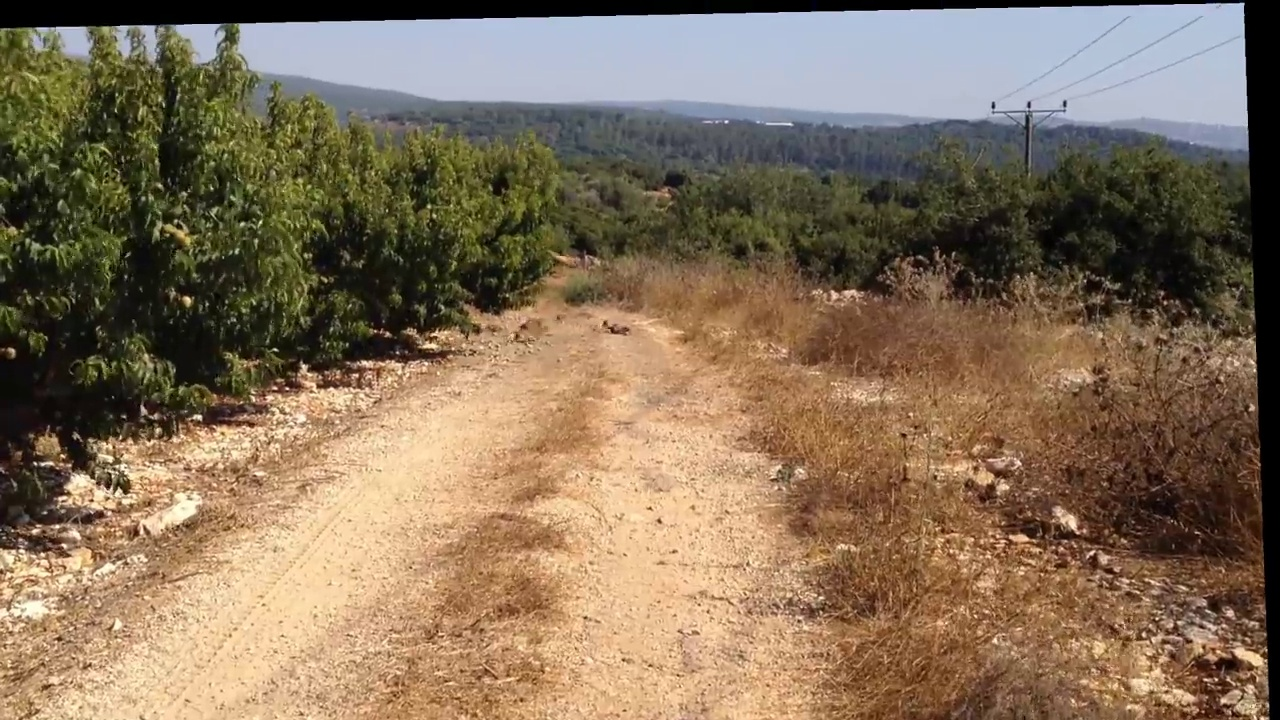Rock Hyrex: (602, 320, 640, 338)
